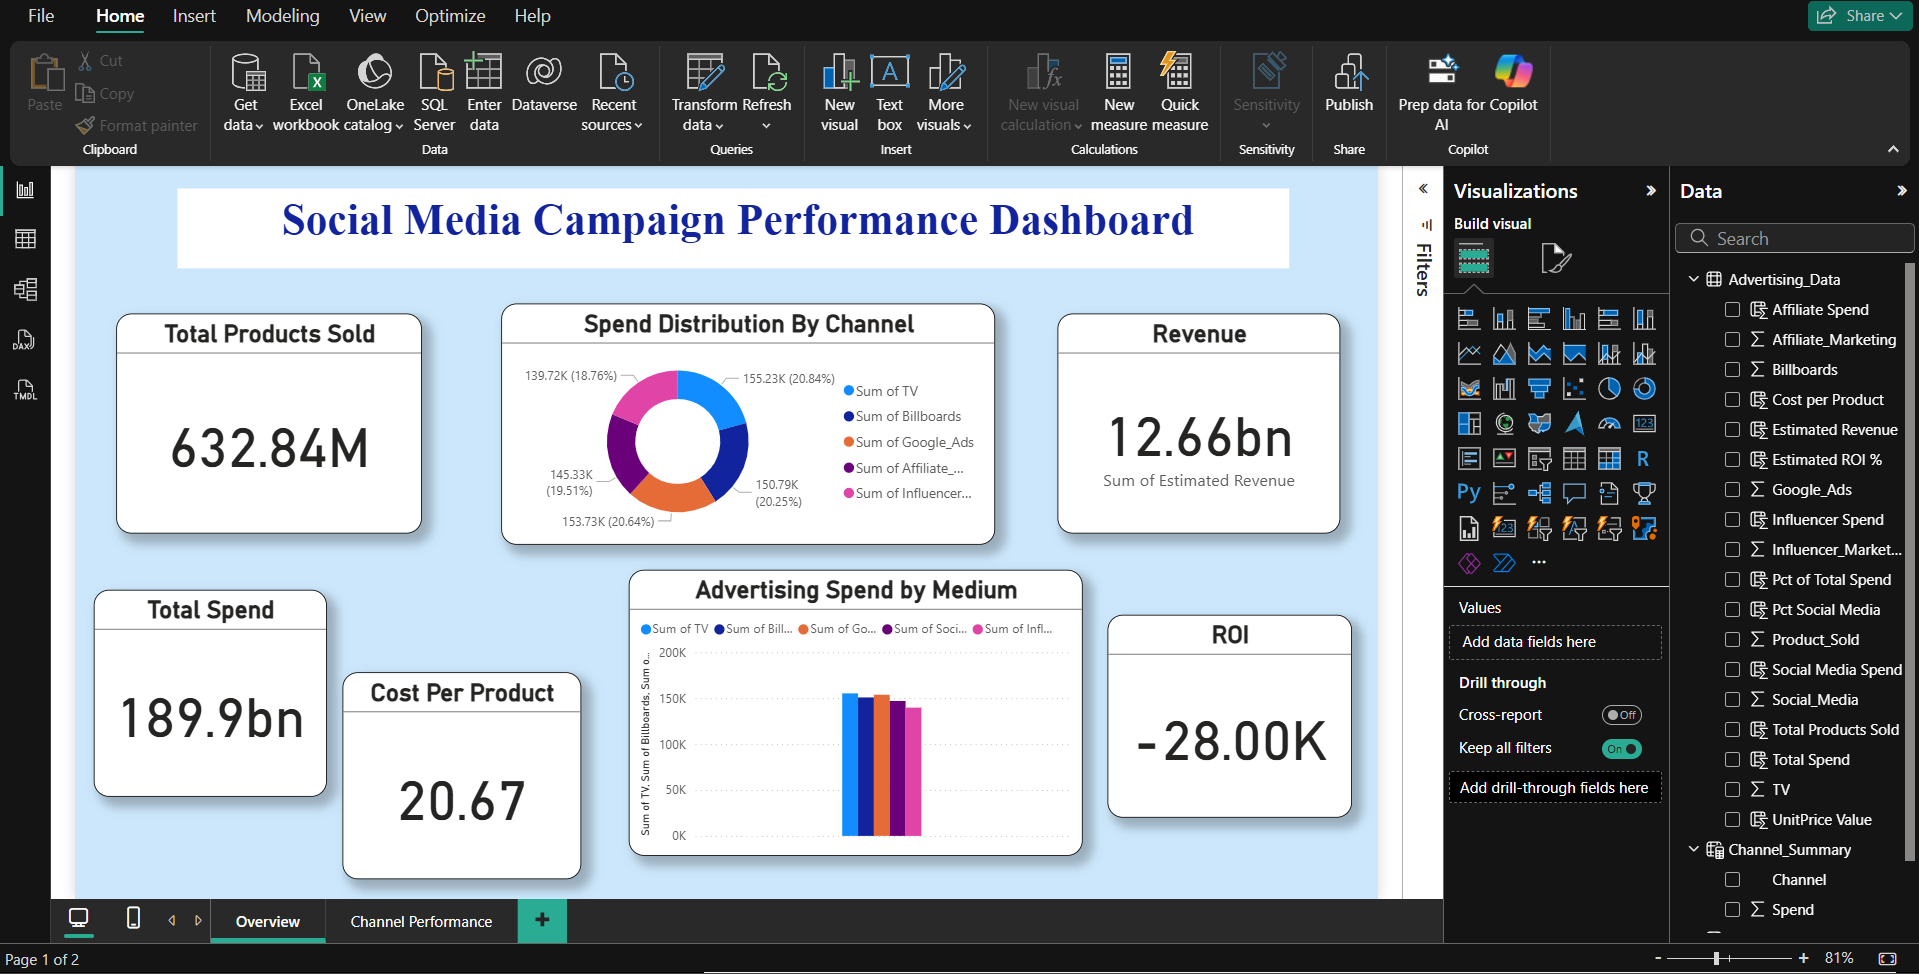

The page's visual inventory and layout, read from the dashboard file:
{"tool":"powerbi","page":{"name":"Overview","canvas":[1280,720],"ordinal":0},"visuals":[{"type":"textbox","box":[101,22.4,1091,78.5],"z":1000},{"type":"card","title":"Total Spend","fields":{"Values":["Sum(Advertising_Data.Total Spend)"]},"box":[18.2,416.5,228.6,203.3],"z":2000},{"type":"card","title":"Total Products Sold","fields":{"Values":["Sum(Advertising_Data.Total Products Sold)"]},"box":[40.7,144.4,300.1,216],"z":3000},{"type":"card","title":"Cost Per Product","fields":{"Values":["Sum(Advertising_Data.Cost per Product)"]},"box":[262.2,496.4,234.2,203.3],"z":5000},{"type":"donutChart","title":"Spend Distribution By Channel","fields":{"Y":["Sum(Advertising_Data.TV)","Sum(Advertising_Data.Billboards)","Sum(Advertising_Data.Google_Ads)","Sum(Advertising_Data.Affiliate_Marketing)","Sum(Advertising_Data.Influencer_Marketing)"]},"box":[417.9,134.6,485.2,237],"z":7000},{"type":"clusteredColumnChart","title":"Advertising Spend by Medium","fields":{"Y":["Sum(Advertising_Data.TV)","Sum(Advertising_Data.Billboards)","Sum(Advertising_Data.Google_Ads)","Sum(Advertising_Data.Social_Media)","Sum(Advertising_Data.Influencer_Marketing)"]},"box":[544.1,396.8,445.9,280.5],"z":8000},{"type":"card","title":"Revenue","fields":{"Values":["Sum(Advertising_Data.Estimated Revenue)"]},"box":[964.8,144.4,277.7,216],"z":8002},{"type":"card","title":"ROI","fields":{"Values":["Sum(Advertising_Data.Estimated ROI %)"]},"box":[1013.9,440.3,239.8,199.1],"z":8003}]}

Visuals, with their boxes on the page's 1280x720 design canvas (x1, y1, x2, y2). These are canvas units, not pixel positions in the 1919x974 screenshot, which may show the page scaled, cropped or inside an application window:
textbox: <region>101, 22, 1192, 101</region>
"Total Spend" card: <region>18, 416, 247, 620</region>
"Total Products Sold" card: <region>41, 144, 341, 360</region>
"Cost Per Product" card: <region>262, 496, 496, 700</region>
"Spend Distribution By Channel" donutChart: <region>418, 135, 903, 372</region>
"Advertising Spend by Medium" clusteredColumnChart: <region>544, 397, 990, 677</region>
"Revenue" card: <region>965, 144, 1242, 360</region>
"ROI" card: <region>1014, 440, 1254, 639</region>
